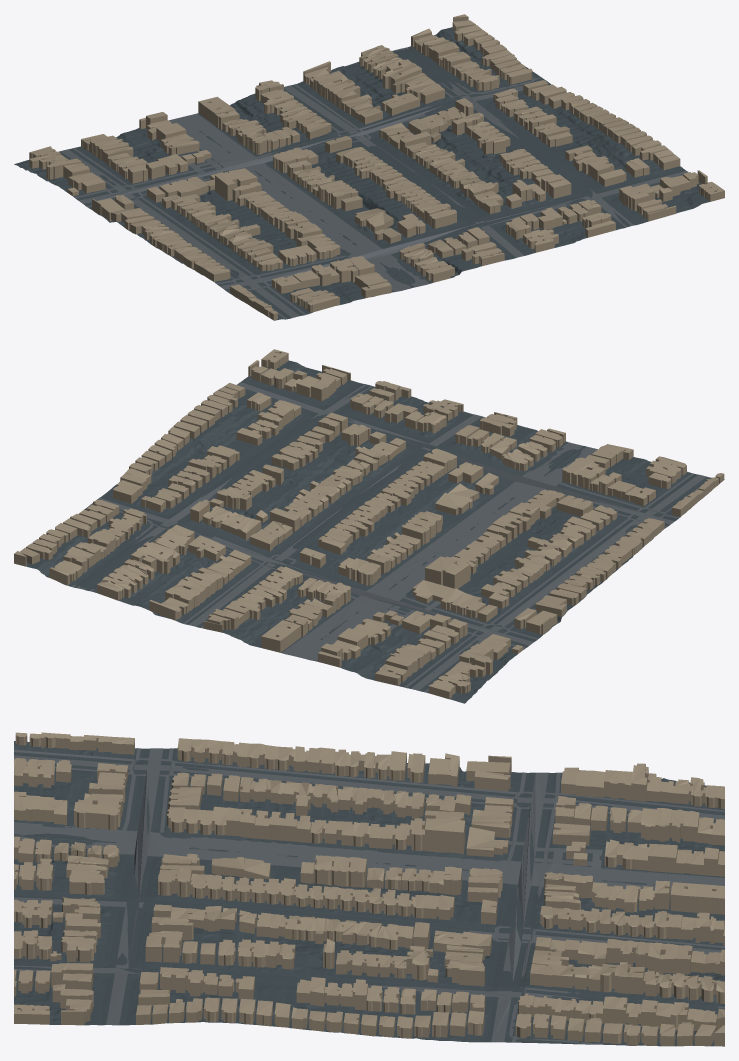
File: epsg26910-1422-10879.lod0.glb
3 views of the same model, one above another, from view 1: azimuth 30°, elevation 25°; view 2: azimuth 150°, elevation 25°; view 3: azimuth 270°, elevation 25° (orthographic). The views are drawn at different scales.
Visible parts, largest first — view 1: epsg26910-1422-10879-lod0; view 2: epsg26910-1422-10879-lod0; view 3: epsg26910-1422-10879-lod0.
Boxes of the visible parts, x1=… form: epsg26910-1422-10879-lod0: x1=14, y1=14, x2=724, y2=320; epsg26910-1422-10879-lod0: x1=14, y1=349, x2=724, y2=703; epsg26910-1422-10879-lod0: x1=14, y1=732, x2=724, y2=1046.
Bounding box in the file's own units: 384 × 45.43 × 384.
